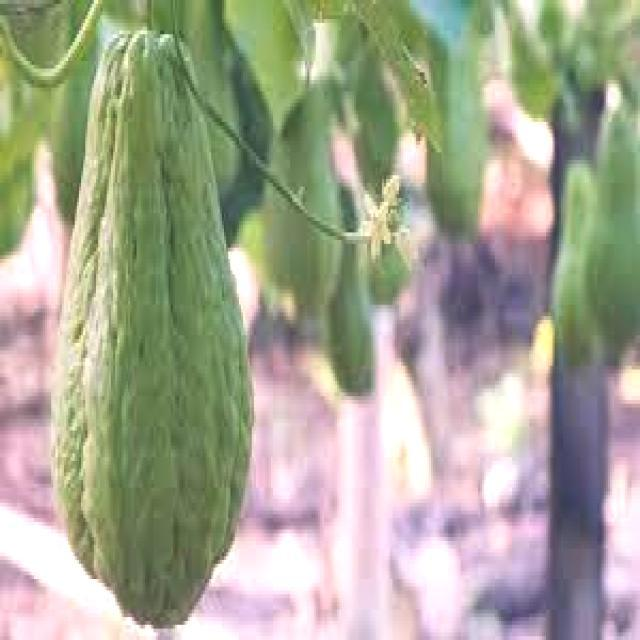Chayote: (52, 0, 251, 640), (248, 77, 345, 300), (552, 95, 640, 331)
